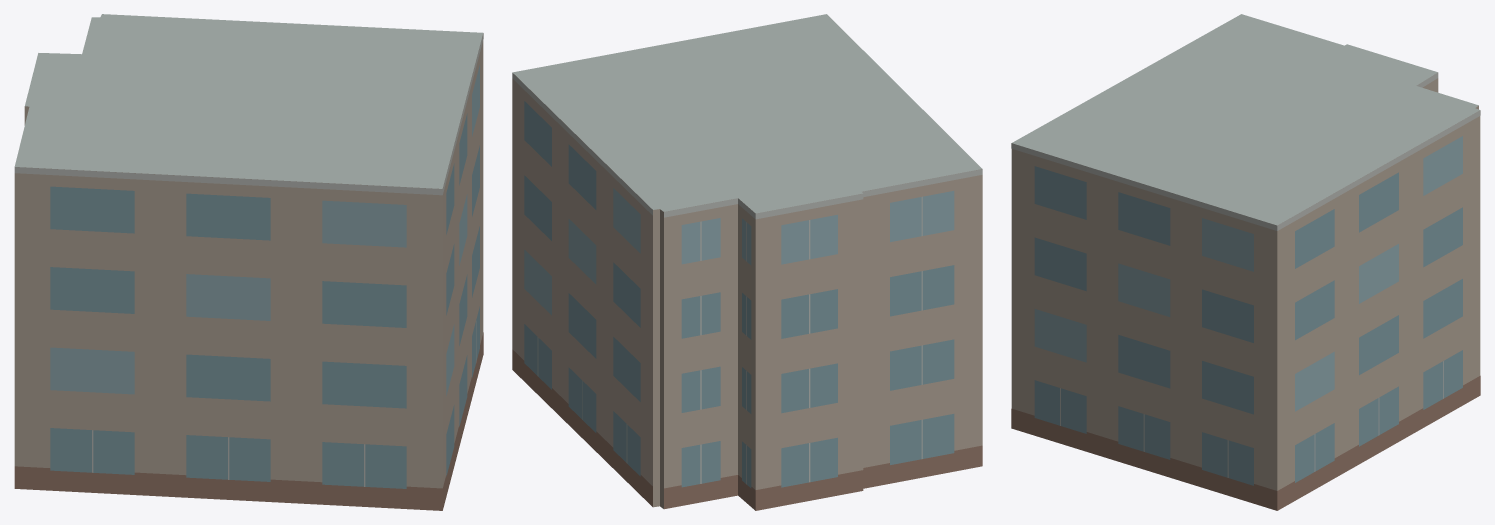
File: survey-upis-32630719.glb
The picture shows the model from 3 angles, left to right: view 1: azimuth 30°, elevation 25°; view 2: azimuth 150°, elevation 25°; view 3: azimuth 270°, elevation 25°; orthographic projection. The views are drawn at different scales.
Parts seen in each view (by area): view 1: survey-upis-32630719.tmp; view 2: survey-upis-32630719.tmp; view 3: survey-upis-32630719.tmp.
Part boxes in pixels (x1=…): survey-upis-32630719.tmp: x1=14, y1=14, x2=483, y2=510; survey-upis-32630719.tmp: x1=512, y1=14, x2=982, y2=510; survey-upis-32630719.tmp: x1=1011, y1=14, x2=1480, y2=510.
Bounding box in the file's own units: 19.72 × 12.4 × 18.47.
